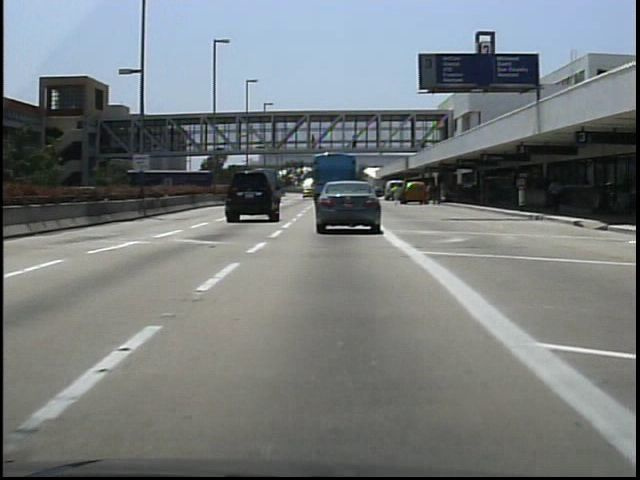person: (546, 174, 566, 217), (423, 179, 440, 209), (390, 181, 407, 208), (348, 133, 361, 155), (308, 132, 321, 152)
